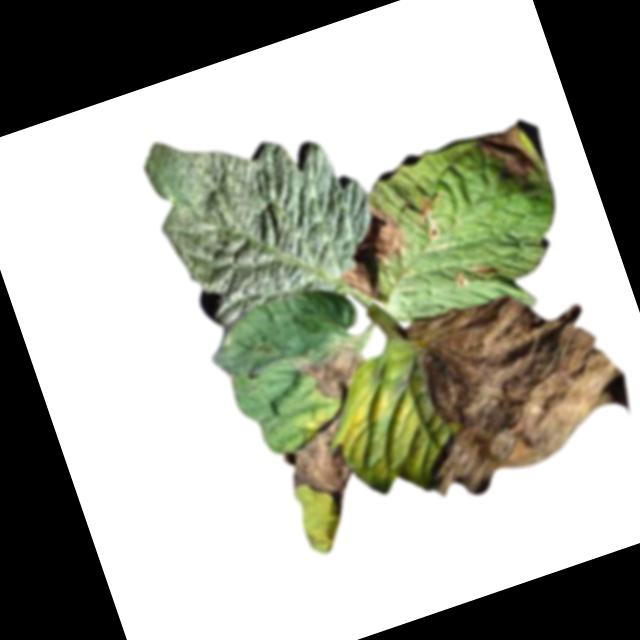Late_blight: (374, 260, 640, 510), (274, 411, 372, 523), (326, 198, 419, 304), (295, 336, 382, 410), (476, 118, 549, 194), (450, 253, 502, 291), (412, 190, 448, 241)
healthy: (134, 82, 392, 336)
